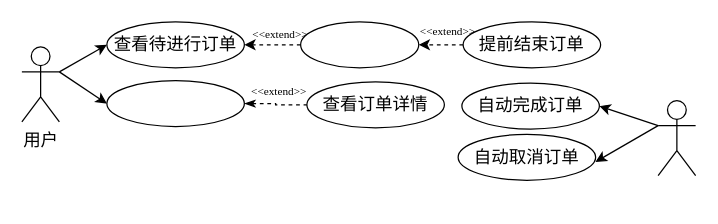
The diagram is 718 pixels wide and 224 high, and some of its shapes have lost their labels. The centre of each missing label's shape, as x and y in pixels:
"开始订单" belongs at (359,44).
"查看所有订单" belongs at (175,102).
"系统" belongs at (676,137).
